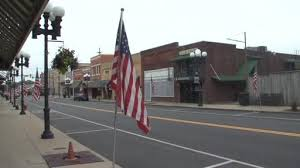Flag: (111, 17, 151, 135), (32, 70, 40, 104), (253, 73, 260, 98)
